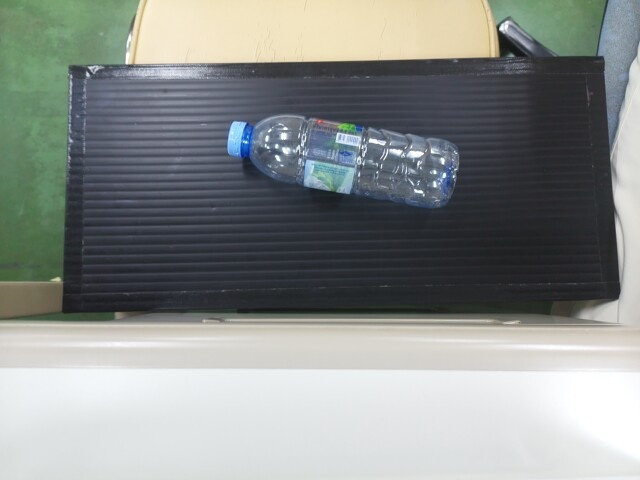plastic_bottle: (222, 108, 458, 209)
